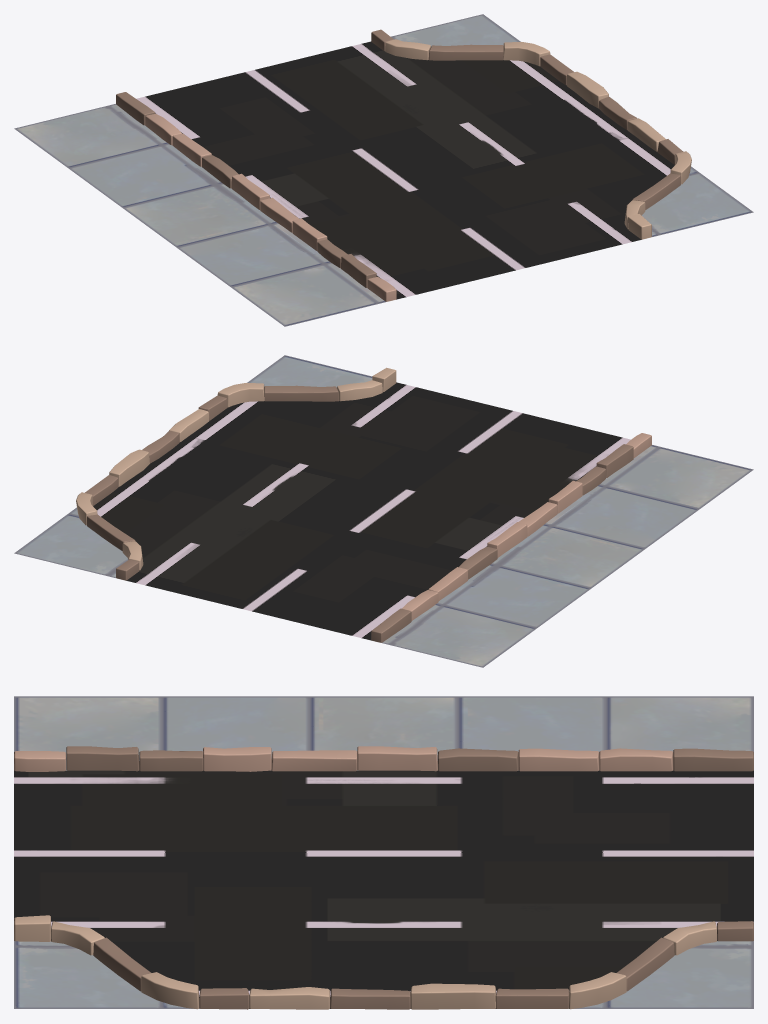
File: CityRoad_parkingNarrow.fbx
3 views of the same model, one above another, from view 1: azimuth 30°, elevation 25°; view 2: azimuth 150°, elevation 25°; view 3: azimuth 270°, elevation 25° (orthographic). The views are drawn at different scales.
Visible parts, largest first — view 1: CityRoad_parkingNarrow_mesh; view 2: CityRoad_parkingNarrow_mesh; view 3: CityRoad_parkingNarrow_mesh.
Boxes of the visible parts, box(x1,y1,x2,y2) form: CityRoad_parkingNarrow_mesh: box(14, 14, 753, 326); CityRoad_parkingNarrow_mesh: box(14, 355, 753, 667); CityRoad_parkingNarrow_mesh: box(14, 696, 753, 1009).
Size of the model in its own units: 1005 by 28.28 by 1000.
